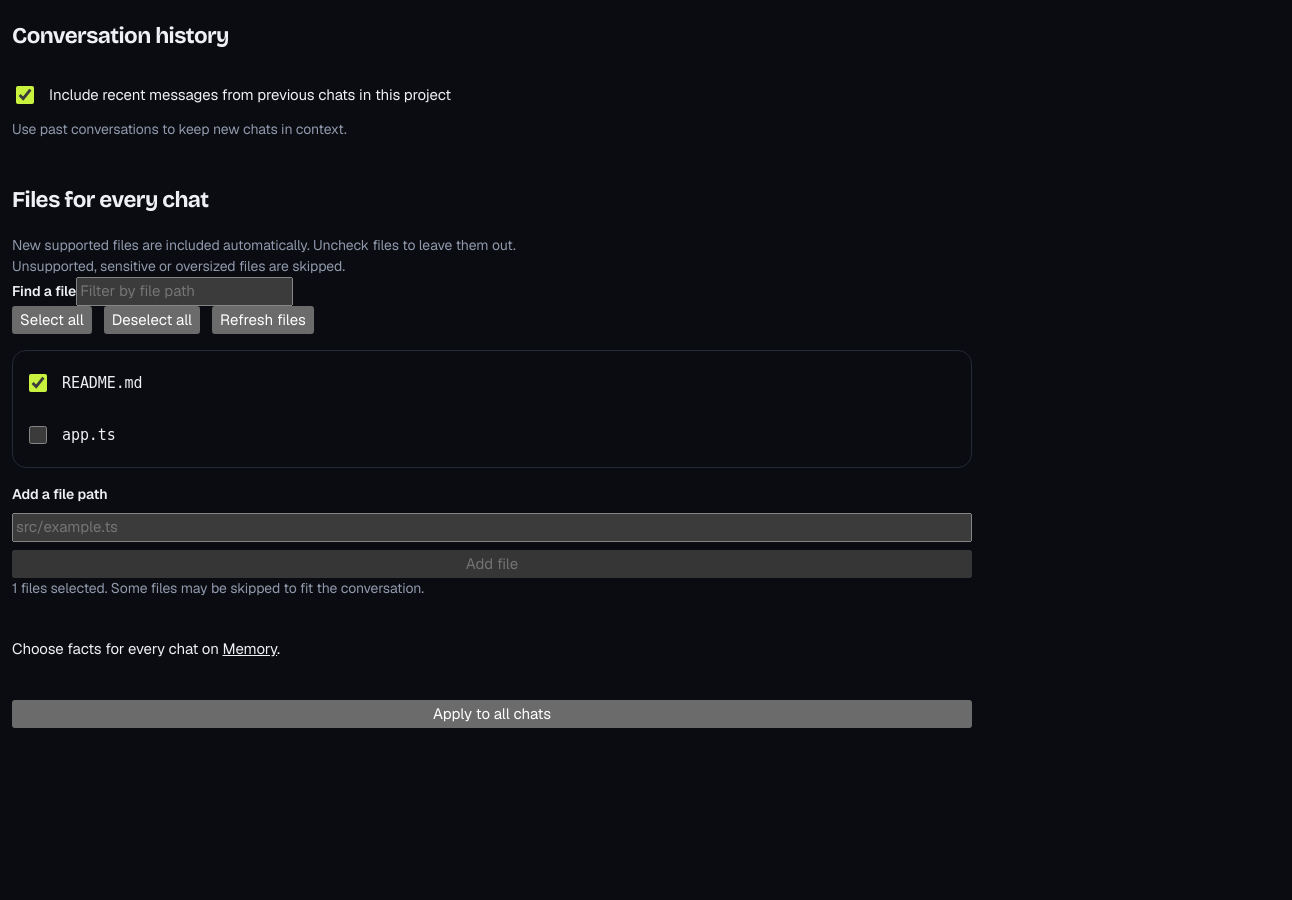
Test: ProjectContextSettings › keeps the context draft when both the patch and reconciliation read are unknown
Click the checkbox labelled "app.ts" at point(38, 435), box [29,426,47,444]
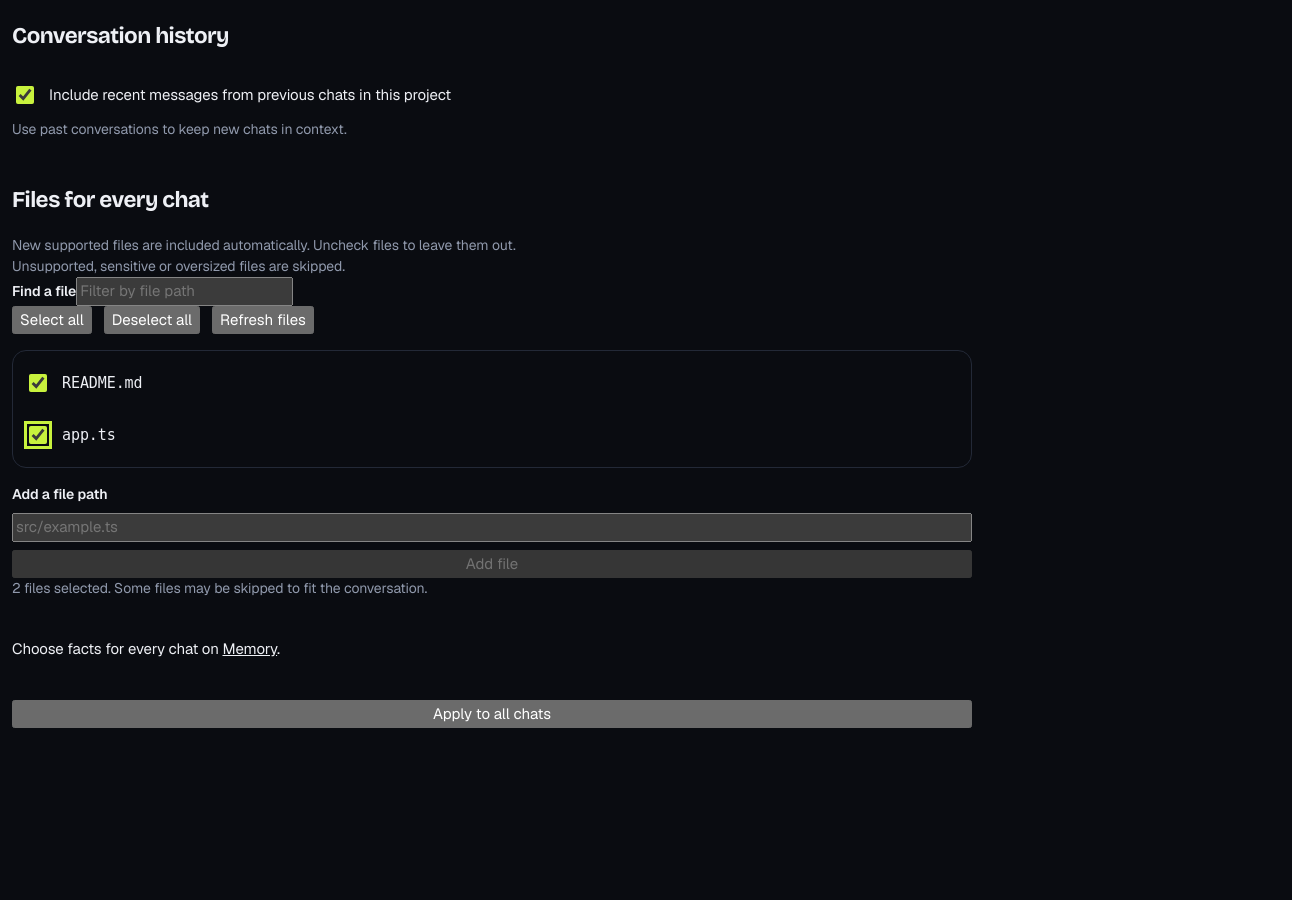
Click the button "Apply to all chats" at point(492, 714), box [12,700,972,728]
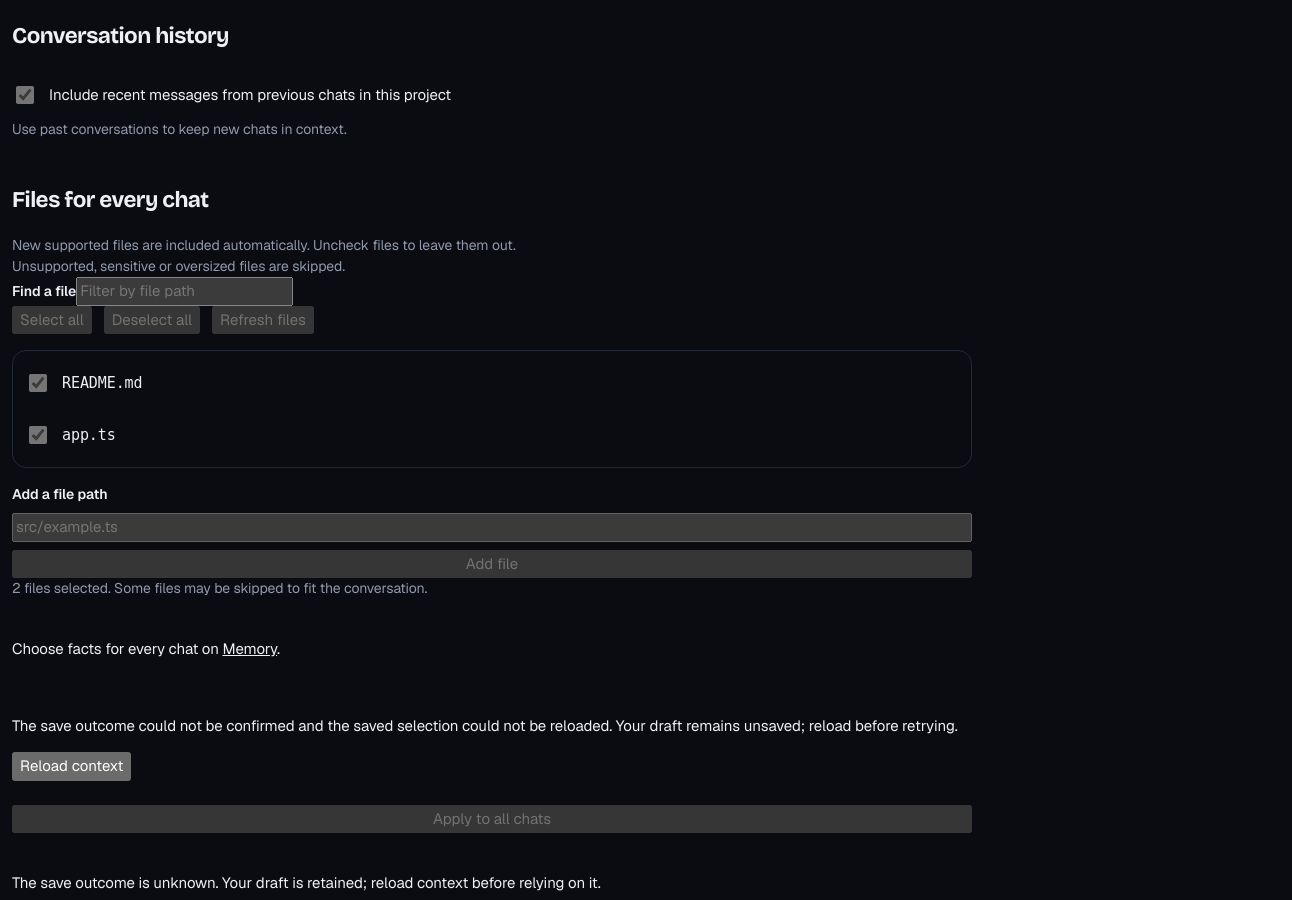
expect the checkbox labelled "app.ts" is checked: met, box [29,426,47,444]
expect the 1st message shows "saved selection could not be reloaded": met, box [12,716,958,735]
expect the button "Reload context" is shown: met
Click the button "Reload context" at point(72, 766), box [12,752,131,781]
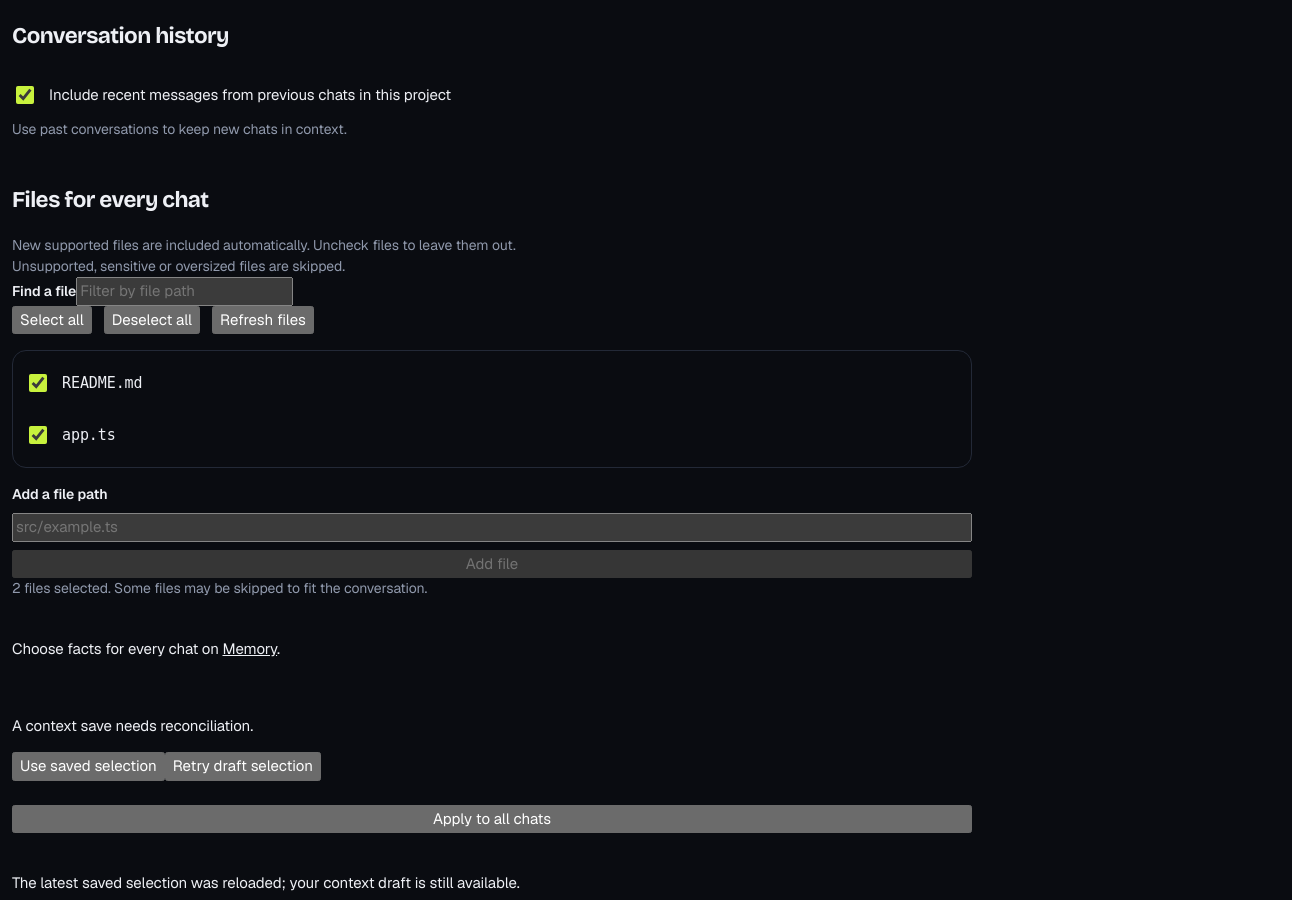
expect the checkbox labelled "app.ts" is checked: met, box [29,426,47,444]
expect the button "Retry draft selection" is shown: met, box [165,752,321,781]
